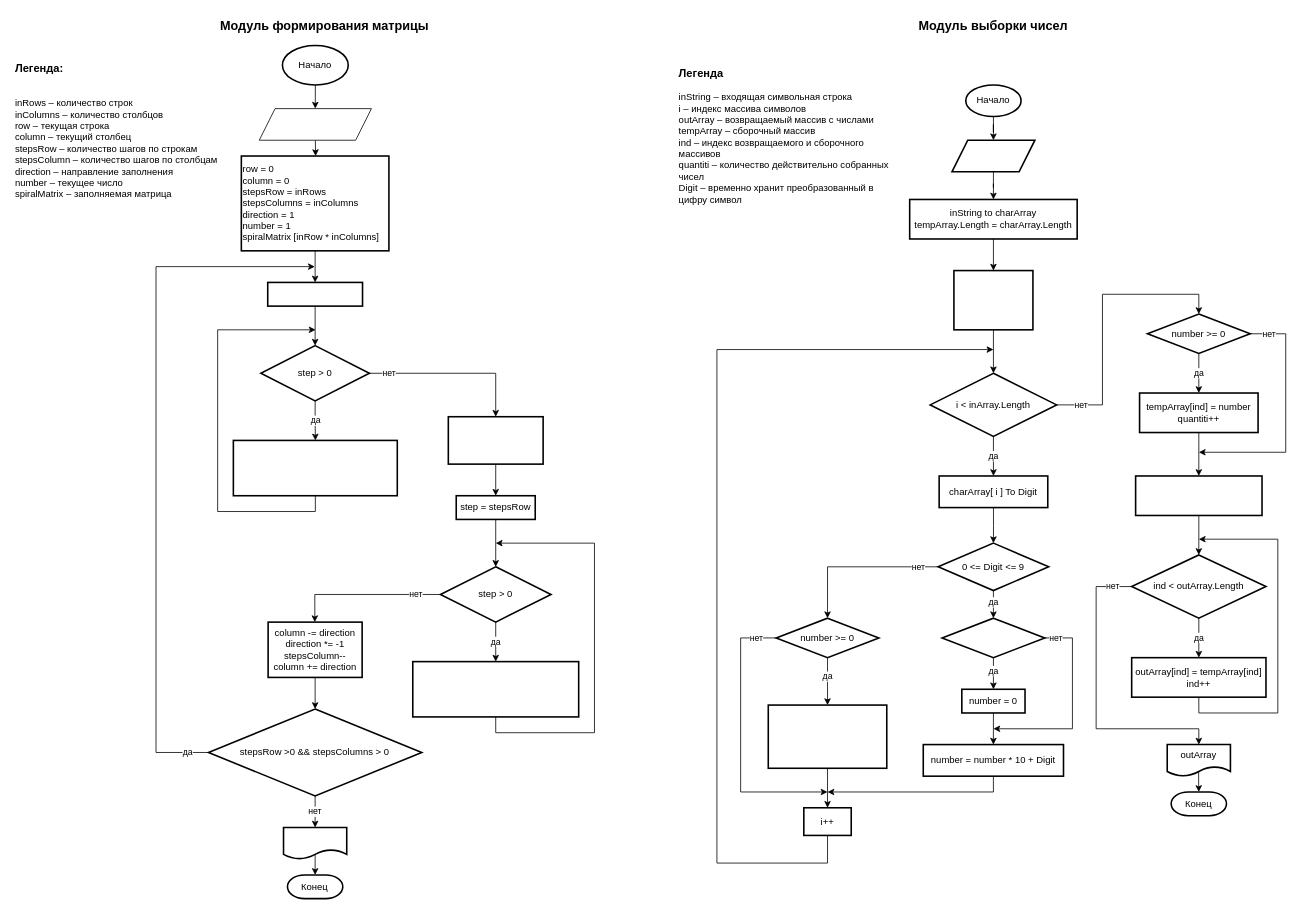
Some shapes in this 1306 by 912 pixel diagram are drawn without their labels. The shapes that lost their labels are listed below. From the top down, each one's centre as x and y in pixels, then its label:
At point (314, 124): "{inRows, inColumns}".
At point (993, 155): "inString".
At point (315, 294): "step = stepsColumns".
At point (993, 299): "i = 0 ind = 0 quantiti = 0 number = -1".
At point (495, 440): "column -= direction stepsRow-- row += direction".
At point (315, 467): "spiralMatrix[row, column] = number number++ column += direction step--".
At point (1198, 495): "outArray.Length = quantiti ind = 0".
At point (993, 637): "number < 0".
At point (495, 688): "spiralMatrix[row, column] = number number++ row += direction step--".
At point (827, 736): "tempArray[ind] = number ind++ quantiti++ number = -1".
At point (314, 843): "spiralMatrix".
